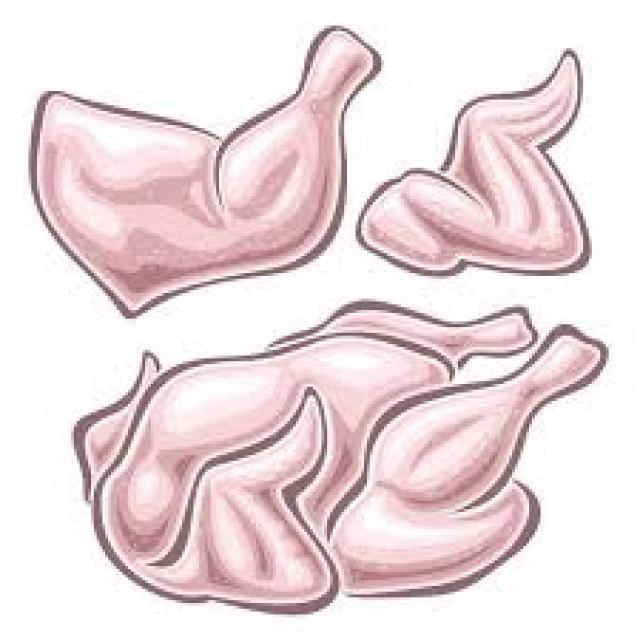quater: (31, 21, 360, 311)
wing: (360, 59, 584, 288)
